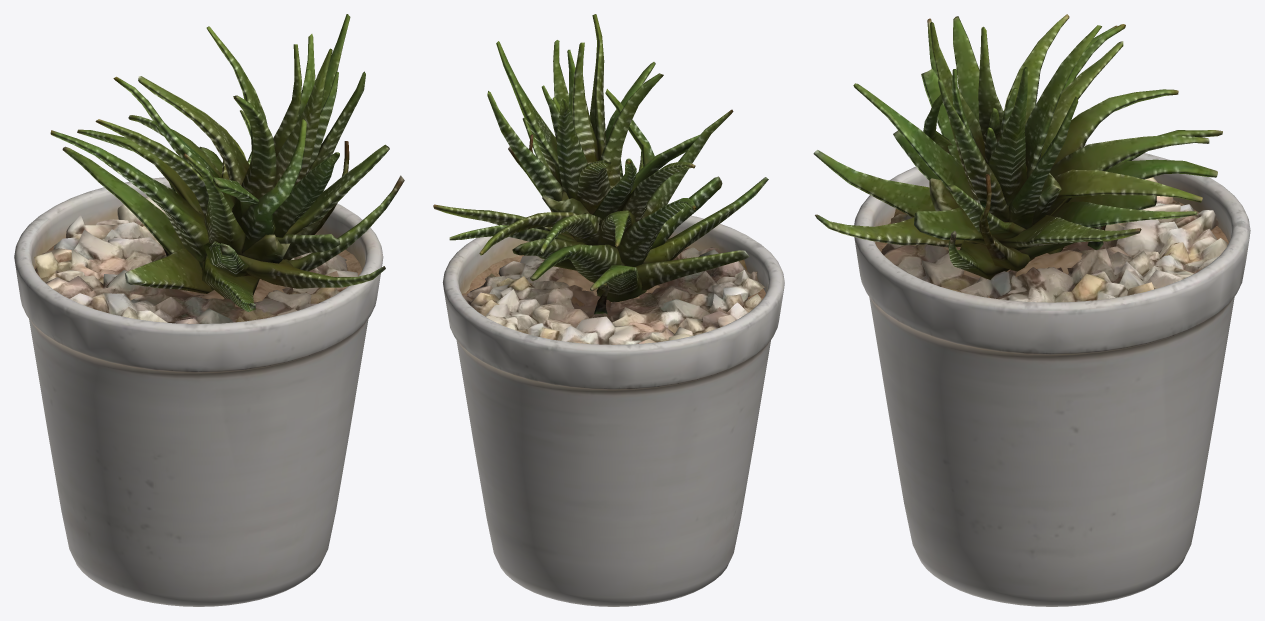
Rendered from potted_plant_04.glb.
The picture shows the model from 3 angles, left to right: view 1: azimuth 30°, elevation 25°; view 2: azimuth 150°, elevation 25°; view 3: azimuth 270°, elevation 25°; orthographic projection. The views are drawn at different scales.
Parts seen in each view (by area): view 1: potted_plant_04_ground; view 2: potted_plant_04_ground; view 3: potted_plant_04_ground.
Boxes of the visible parts, bbox=[...] form: potted_plant_04_ground: bbox=[14, 14, 404, 606]; potted_plant_04_ground: bbox=[433, 14, 784, 606]; potted_plant_04_ground: bbox=[813, 14, 1250, 606].
Size of the model in its own units: 0.1679 by 0.2675 by 0.1847.
Materials: 1 (1 with a texture image).
